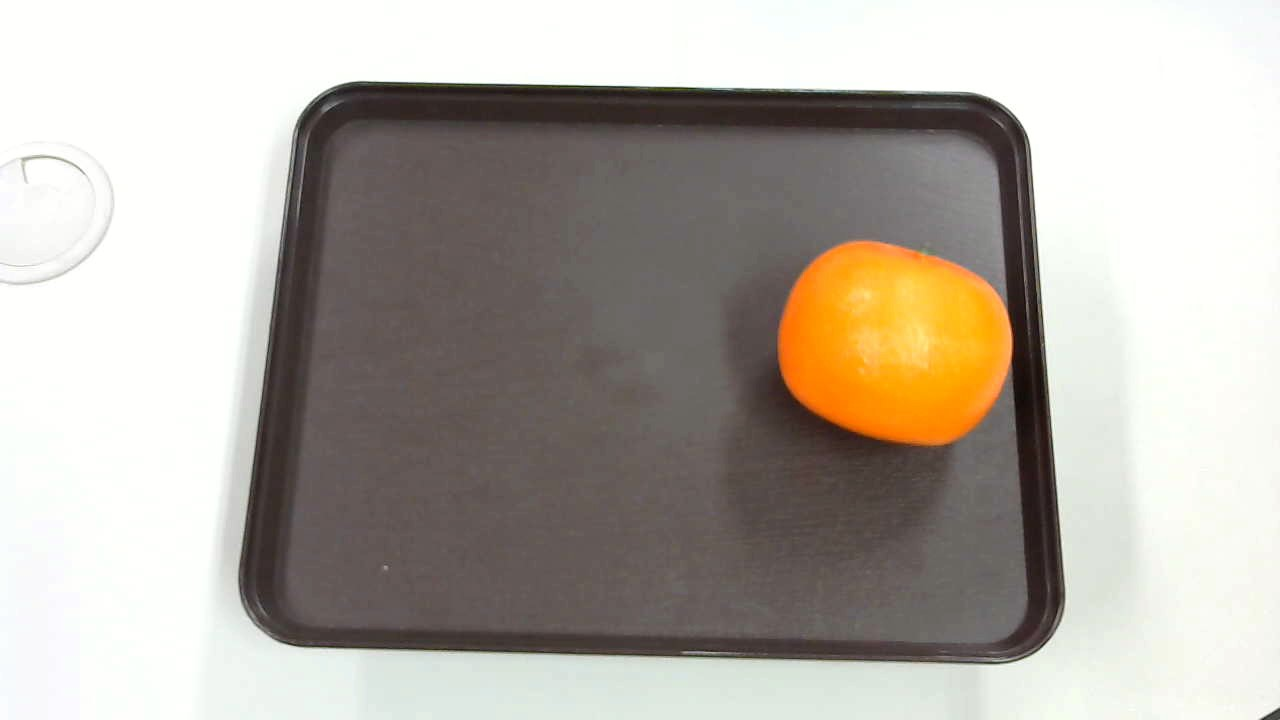orange: (749, 213, 1039, 449)
